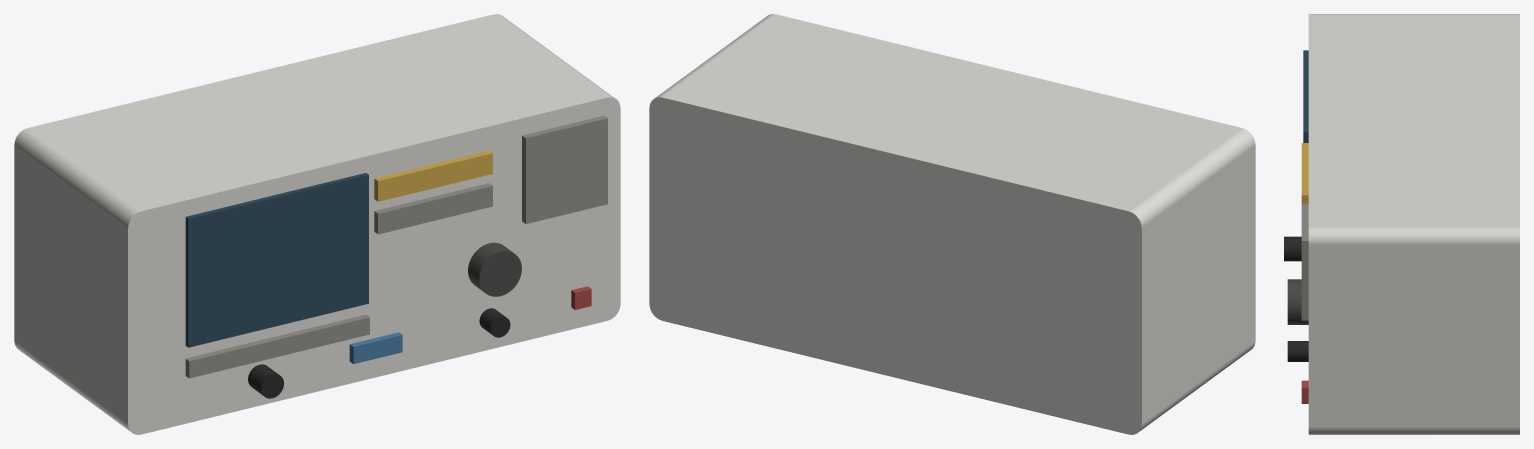
Rendered from function_generator.glb.
3 renders of one model, left to right at view 1: azimuth 30°, elevation 25°; view 2: azimuth 150°, elevation 25°; view 3: azimuth 270°, elevation 25°, orthographic. The views are drawn at different scales.
Visible parts, largest first — view 1: body, lcd_screen, numeric_keypad, softkeys, waveform_keys, mode_keys, rotary_knob, output_buttons, bnc_outputs, counter_input; view 2: body; view 3: body, numeric_keypad, rotary_knob, lcd_screen, waveform_keys, bnc_outputs, counter_input.
Part boxes in pixels (x1,y1,x2,y2): body: [14, 14, 620, 434]; lcd_screen: [185, 173, 368, 347]; numeric_keypad: [522, 115, 607, 223]; softkeys: [185, 314, 369, 378]; waveform_keys: [374, 150, 492, 201]; mode_keys: [374, 183, 492, 234]; rotary_knob: [468, 242, 521, 296]; output_buttons: [349, 332, 402, 364]; bnc_outputs: [248, 364, 284, 398]; counter_input: [479, 308, 510, 337]; body: [649, 14, 1255, 434]; body: [1308, 14, 1519, 434]; numeric_keypad: [1301, 203, 1308, 320]; rotary_knob: [1287, 279, 1308, 324]; lcd_screen: [1303, 50, 1308, 142]; waveform_keys: [1301, 143, 1308, 203]; bnc_outputs: [1284, 236, 1301, 261]; counter_input: [1287, 341, 1308, 361].
Bounding box in the file's own units: 0.3 × 0.13 × 0.134.
